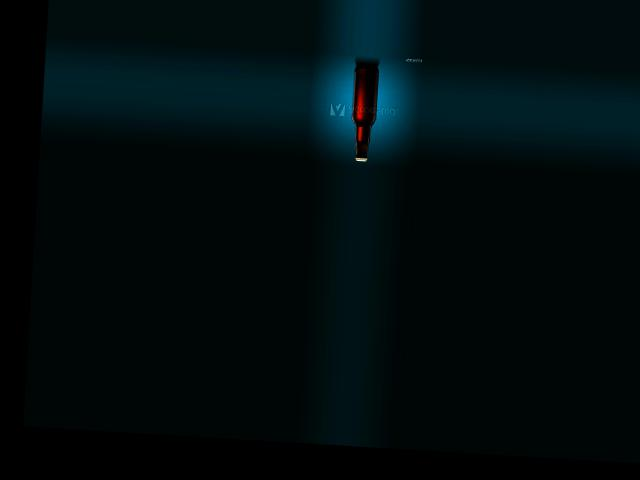beer: (349, 64, 380, 161)
